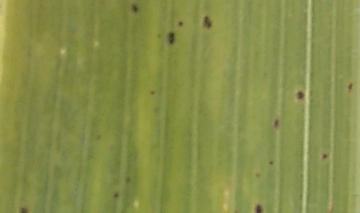tarspot: (201, 14, 212, 28), (295, 89, 305, 101), (166, 31, 175, 44), (271, 116, 279, 129), (130, 2, 139, 13), (254, 203, 263, 213), (124, 173, 132, 183), (147, 88, 156, 96), (320, 151, 328, 160), (18, 206, 28, 213), (176, 19, 184, 27), (347, 81, 353, 91), (155, 31, 162, 39), (112, 191, 119, 199), (267, 159, 275, 166), (253, 171, 261, 178)
